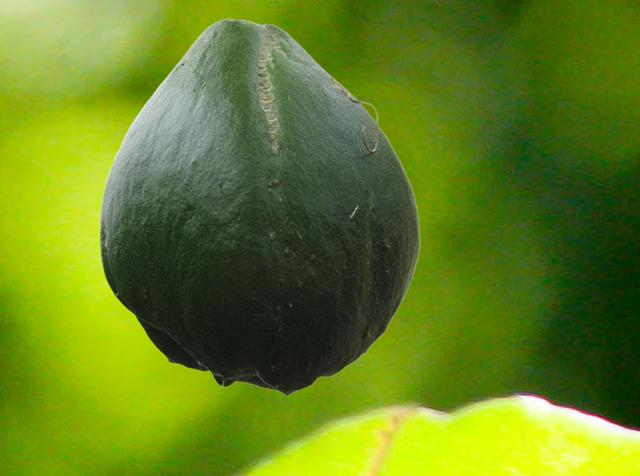sayote: (99, 18, 419, 396)
